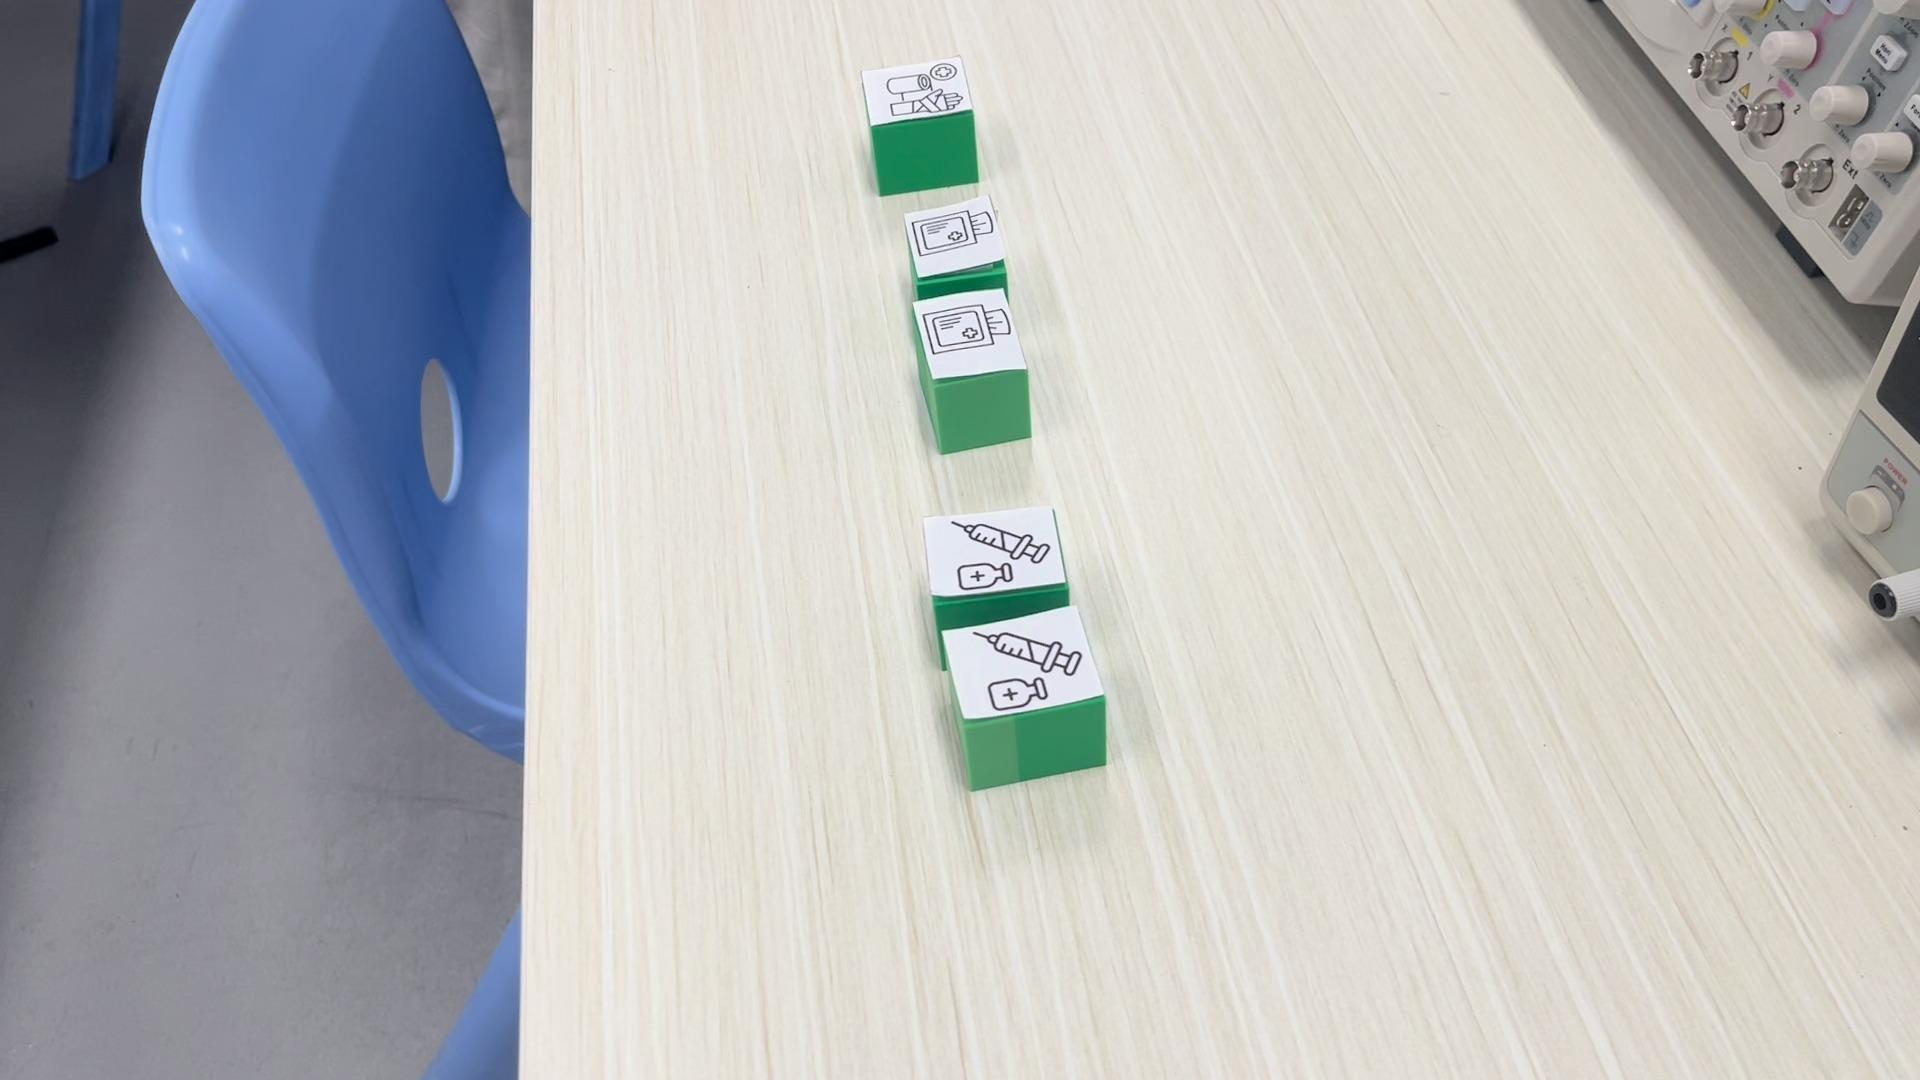Bandages: (858, 57, 980, 195)
Gauze: (911, 286, 1034, 458), (907, 194, 1009, 299)
antiseptic cream: (938, 603, 1108, 791), (924, 506, 1071, 630)
